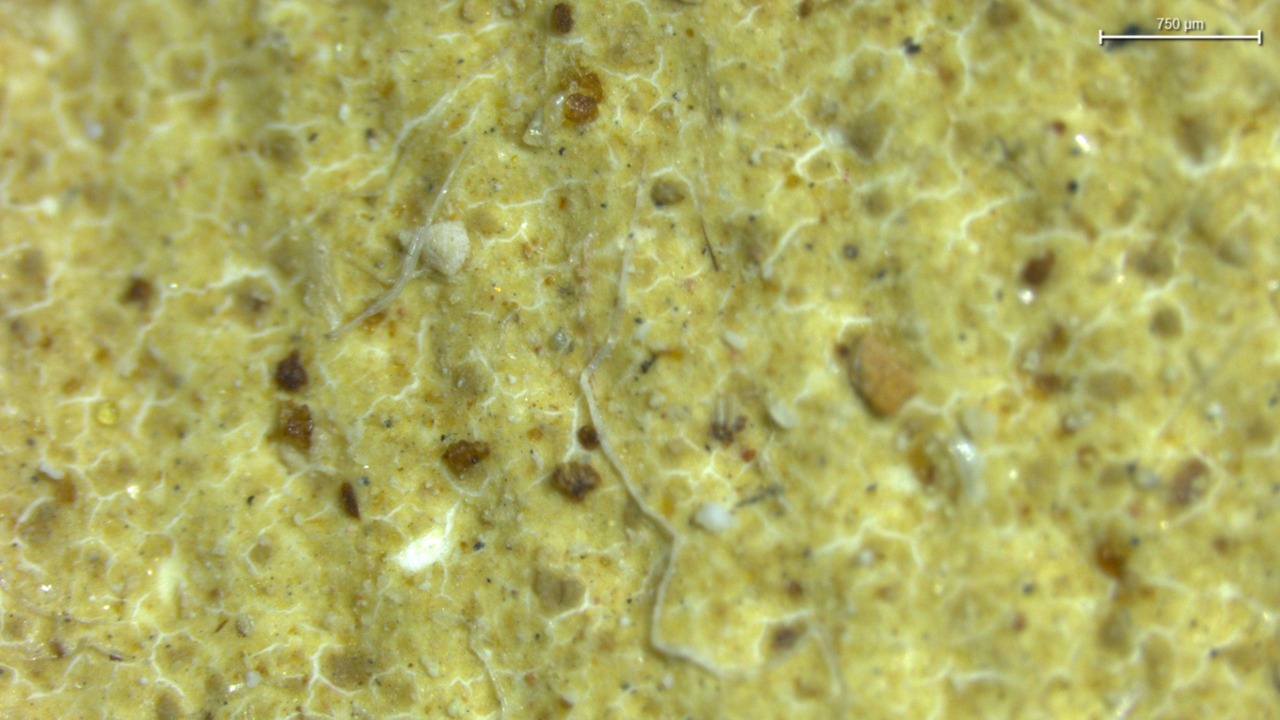microplastic_fragment: (847, 335, 915, 416), (398, 220, 477, 282)
